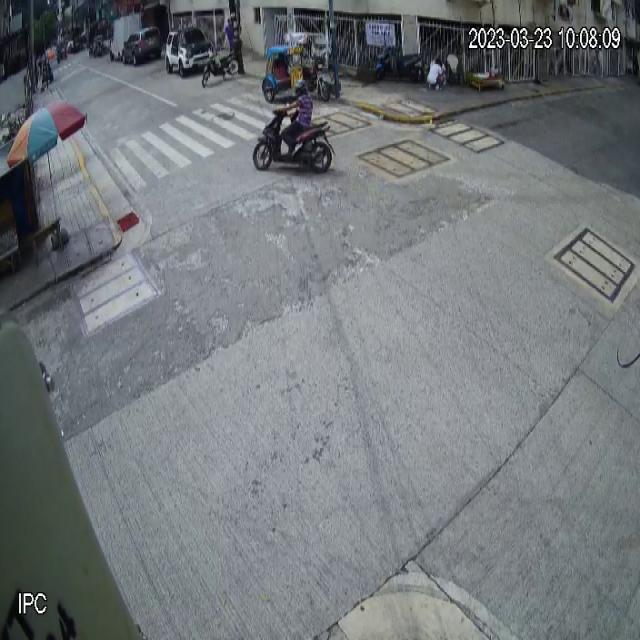Motorcycle: (252, 106, 339, 175)
Tricycle: (261, 31, 330, 104)
